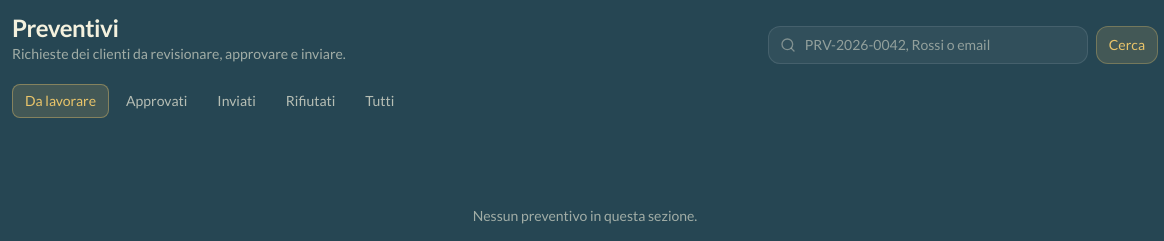
Test: QuoteInbox › searches on submit, not on every keystroke
Type " PRV-2026-0001 " into the field named "Cerca per numero, nome o email" at x=928, y=45, box top-left (768, 26), bottom-right (1088, 64)
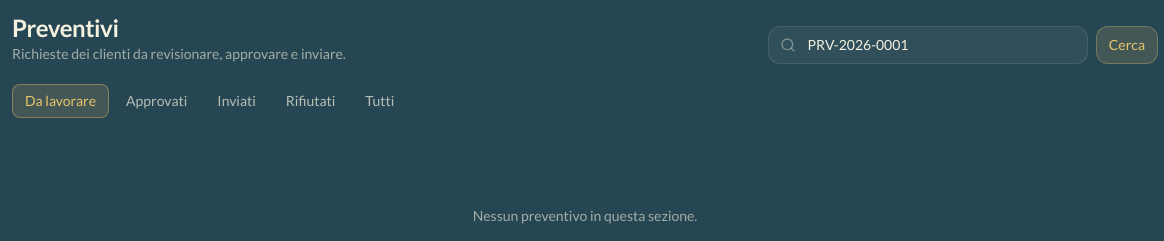
Submit the form, box top-left (768, 26), bottom-right (1158, 64)
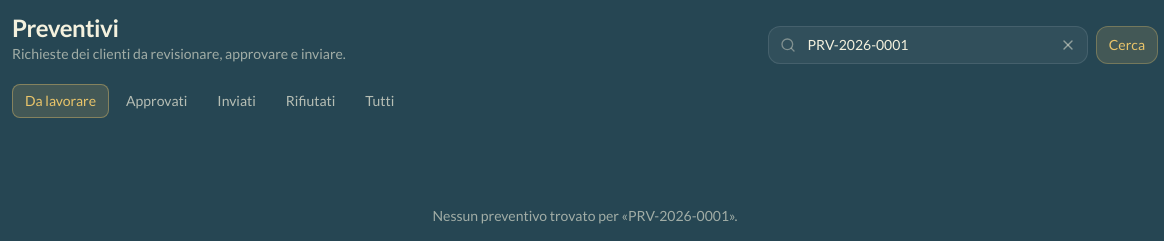
Expected: the text with test id "inbox-empty" shows "PRV-2026-0001", top-left (432, 207), bottom-right (738, 224)
